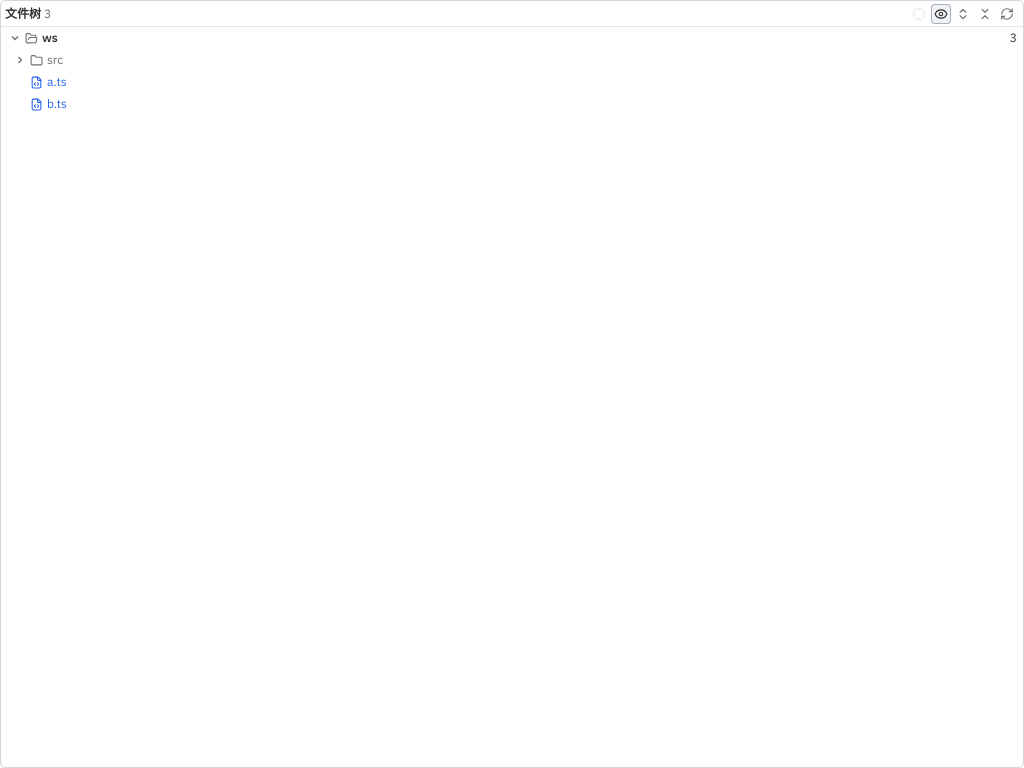
Scenario: FileTree 发送到会话 › 文件行点击「发送到会话」打开弹窗，预览为绝对路径
Right-click the list item "a.ts" at (36, 82), box [1,71,1023,93]
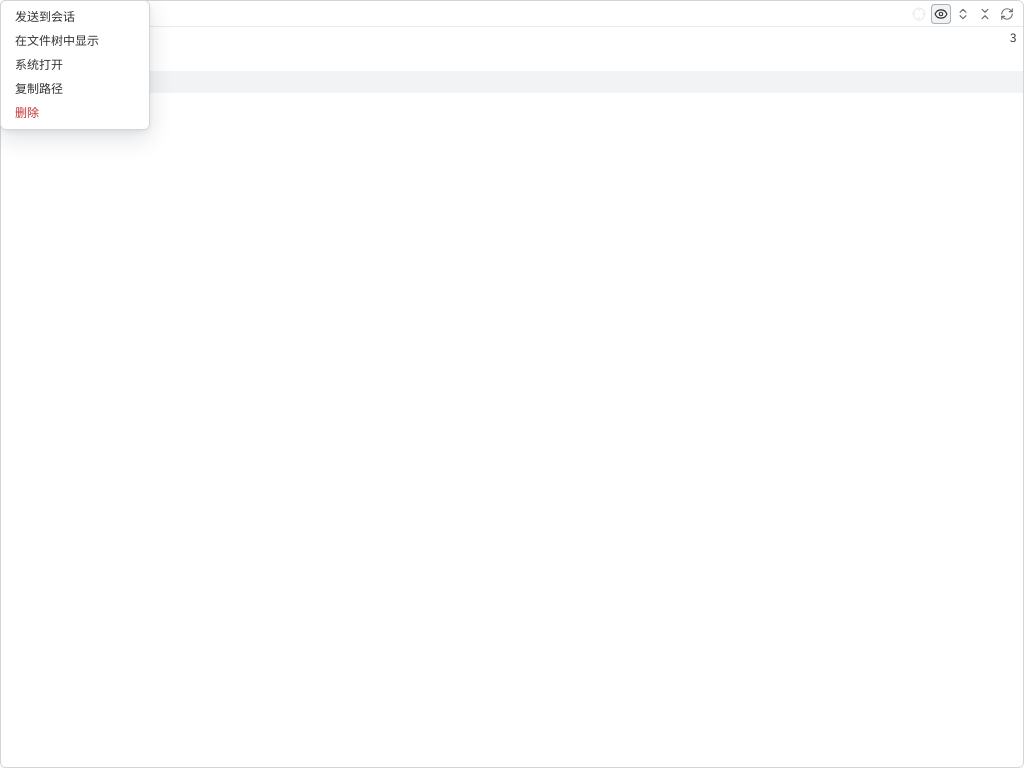
Click the menu item "发送到会话" at (75, 17), box [5,5,145,29]
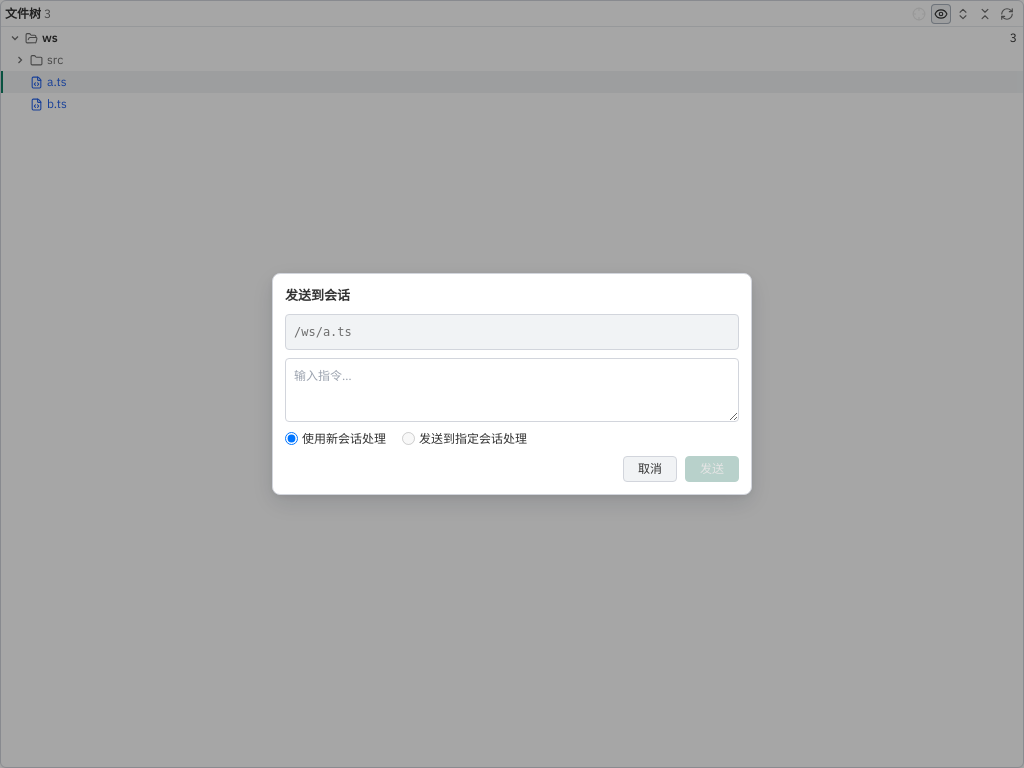
Check: the text with test id "pm-send-dialog-preview" reads "/ws/a.ts", box [294,325,352,339]
